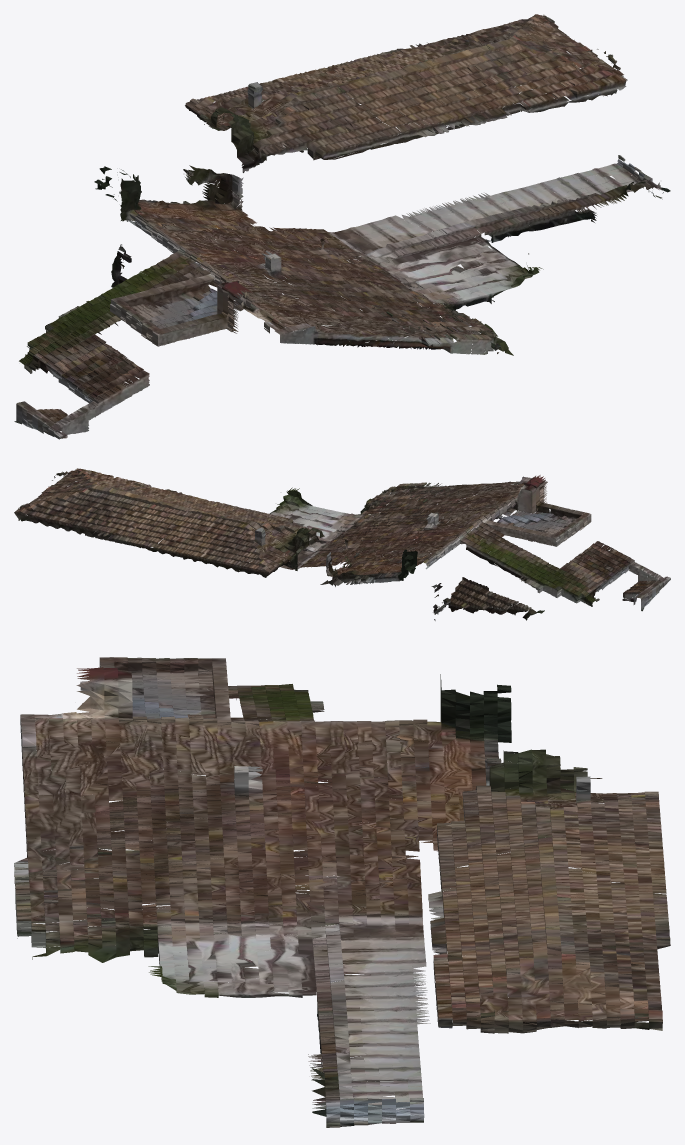
Rendered from cubierta.glb.
The picture shows the model from 3 angles, top to bottom: view 1: azimuth 30°, elevation 25°; view 2: azimuth 150°, elevation 25°; view 3: azimuth 270°, elevation 25°; orthographic projection. The views are drawn at different scales.
Parts seen in each view (by area): view 1: cubierta_0, cubierta_2, cubierta_1; view 2: cubierta_0, cubierta_2, cubierta_1; view 3: cubierta_0, cubierta_1, cubierta_2.
Boxes of the visible parts, box(x1,y1,x2,y2) form: cubierta_0: box(14, 16, 670, 439); cubierta_2: box(19, 16, 635, 402); cubierta_1: box(49, 14, 649, 434); cubierta_0: box(19, 468, 670, 613); cubierta_2: box(19, 468, 638, 606); cubierta_1: box(14, 474, 666, 620); cubierta_0: box(15, 658, 670, 1127); cubierta_1: box(14, 668, 662, 1125); cubierta_2: box(14, 657, 666, 1108).
Size of the model in its own units: 38.4 by 6.84 by 23.48.
3 materials, 3 textured.
